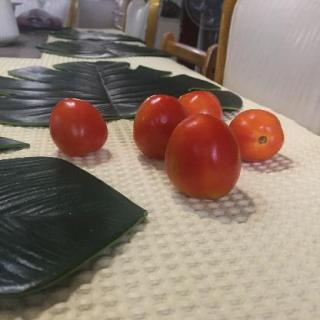Tomat: (127, 79, 298, 213), (49, 91, 123, 151)
